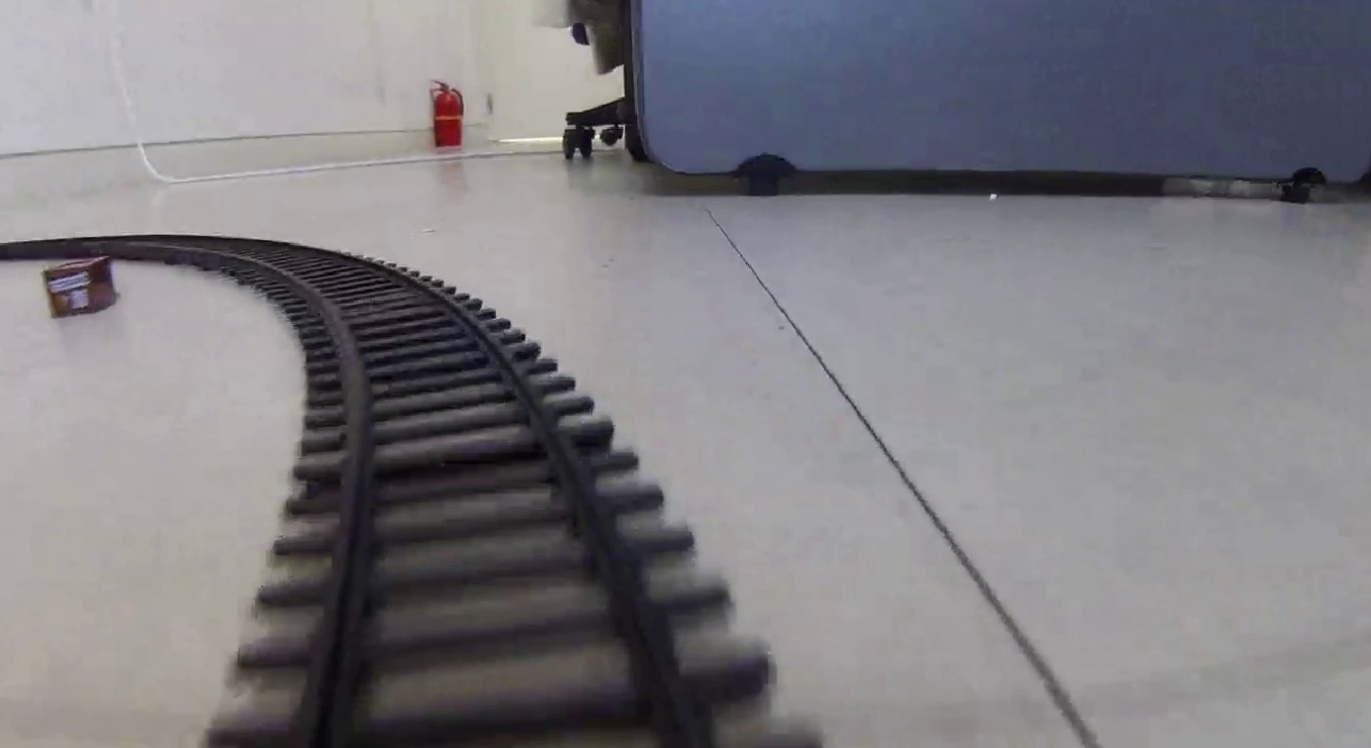box: (42, 257, 116, 314)
